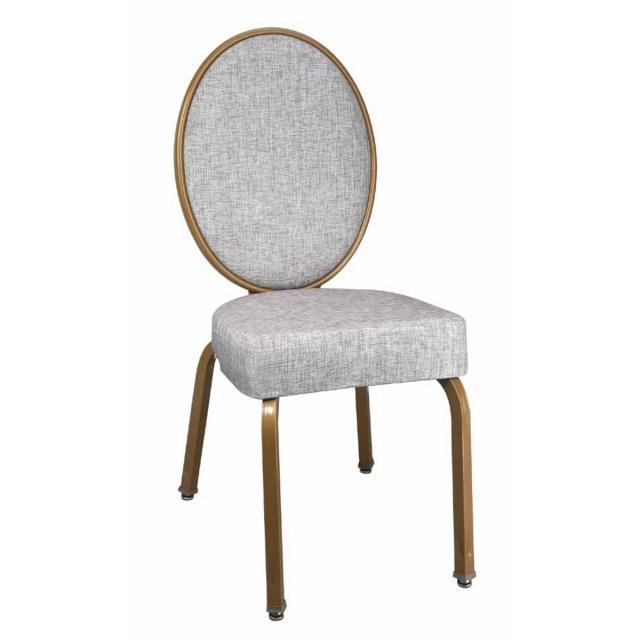chair: (173, 28, 486, 621)
